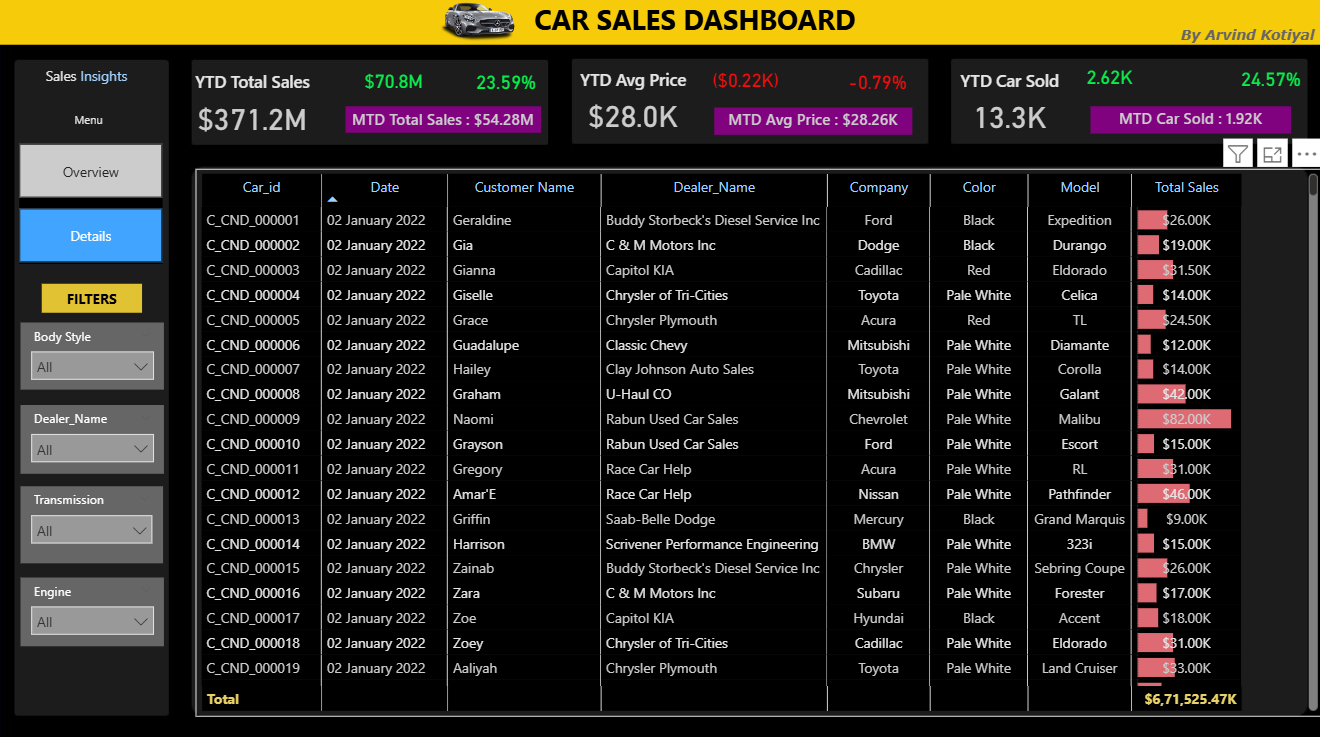

The dashboard page shown, as its layout file describes it:
{"tool":"powerbi","page":{"name":"Details","canvas":[1280,720],"ordinal":1},"visuals":[{"type":"card","title":"YTD Total Sales","fields":{"Values":["car_data.Total_YTD Sales"]},"box":[164.1,72.4,162.9,70],"z":0},{"type":"card","title":"YTD Total Sales","fields":{"Values":["car_data.Sales difference"]},"box":[336.2,67.2,90.6,32.9],"z":1000},{"type":"card","title":"YTD Total Sales","fields":{"Values":["car_data.YOY"]},"box":[448.8,67.6,83.2,33.8],"z":2000},{"type":"card","fields":{"Values":["car_data.MTD KPI"]},"box":[335.6,107,188.5,25.5],"z":3000},{"type":"card","title":"YTD Avg Price","fields":{"Values":["car_data.YTD Avg price"]},"box":[546.1,70,133.1,70],"z":4000},{"type":"card","title":"YTD Total Sales","fields":{"Values":["car_data.Avg Price difference"]},"box":[677.2,66.9,90,32.8],"z":5000},{"type":"card","title":"YTD Total Sales","fields":{"Values":["car_data.YOY Avg price growth"]},"box":[804.7,66.4,88.1,36.2],"z":6000},{"type":"card","fields":{"Values":["car_data.MTD Avg Price KPI"]},"box":[691.8,108.2,190.9,26.7],"z":7000},{"type":"card","title":"YTD Car Sold","fields":{"Values":["car_data.YTD Car Sold"]},"box":[909.4,71.7,133.7,69.3],"z":8000},{"type":"card","title":"YTD Total Sales","fields":{"Values":["car_data.Car Sold Difference"]},"box":[1027.4,64.4,90,32.8],"z":9000},{"type":"card","title":"YTD Total Sales","fields":{"Values":["car_data.Car Sold Growth"]},"box":[1183,65.7,90,32.8],"z":10000},{"type":"card","fields":{"Values":["car_data.MTD Car Sold KPI"]},"box":[1054.1,107,193.3,26.7],"z":11000},{"type":"textbox","box":[0,0,1278.8,48],"z":12000},{"type":"tableEx","fields":{"Values":["car_data.Car_id","car_data.Date","car_data.Customer Name","car_data.Dealer_Name","car_data.Company","car_data.Color","car_data.Model","Sum(car_data.Price ($))"]},"box":[190.6,167.7,1088.2,528.4],"z":13000},{"type":"slicer","fields":{"Values":["car_data.Body Style"]},"box":[21.7,316.1,138.7,65.1],"z":14000},{"type":"slicer","fields":{"Values":["car_data.Dealer_Name"]},"box":[21.7,395.7,138.7,66.4],"z":15000},{"type":"slicer","fields":{"Values":["car_data.Transmission"]},"box":[21.7,474.1,137.5,74.8],"z":16000},{"type":"slicer","fields":{"Values":["car_data.Engine"]},"box":[21.7,562.2,138.7,66.4],"z":17000},{"type":"pageNavigator","box":[20.5,143.6,138.7,115.8],"z":18000},{"type":"textbox","box":[41,63.9,98.9,30.2],"z":19000},{"type":"textbox","box":[68.8,105,49.5,48.3],"z":20000},{"type":"textbox","box":[42.2,278.7,96.5,27.7],"z":21000},{"type":"image","box":[357.1,4.8,211.1,41],"z":22000},{"type":"textbox","box":[1118.3,24.1,161.7,30.2],"z":23000}]}

Visuals, with their boxes on the page's 1280x720 design canvas (x1, y1, x2, y2). These are canvas units, not pixel positions in the 1320x737 screenshot, which may show the page scaled, cropped or inside an application window:
"YTD Total Sales" card: (164, 72, 327, 142)
"YTD Total Sales" card: (336, 67, 427, 100)
"YTD Total Sales" card: (449, 68, 532, 101)
card - car_data.MTD KPI: (336, 107, 524, 132)
"YTD Avg Price" card: (546, 70, 679, 140)
"YTD Total Sales" card: (677, 67, 767, 100)
"YTD Total Sales" card: (805, 66, 893, 103)
card - car_data.MTD Avg Price KPI: (692, 108, 883, 135)
"YTD Car Sold" card: (909, 72, 1043, 141)
"YTD Total Sales" card: (1027, 64, 1117, 97)
"YTD Total Sales" card: (1183, 66, 1273, 98)
card - car_data.MTD Car Sold KPI: (1054, 107, 1247, 134)
textbox: (0, 0, 1279, 48)
tableEx - car_data.Car_id x car_data.Date: (191, 168, 1279, 696)
slicer - car_data.Body Style: (22, 316, 160, 381)
slicer - car_data.Dealer_Name: (22, 396, 160, 462)
slicer - car_data.Transmission: (22, 474, 159, 549)
slicer - car_data.Engine: (22, 562, 160, 629)
pageNavigator: (20, 144, 159, 259)
textbox: (41, 64, 140, 94)
textbox: (69, 105, 118, 153)
textbox: (42, 279, 139, 306)
image: (357, 5, 568, 46)
textbox: (1118, 24, 1280, 54)
